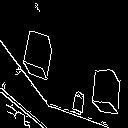cube: (20, 26, 57, 85), (90, 64, 123, 117), (70, 90, 86, 118)
